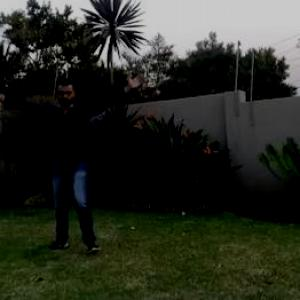takeoff: (1, 73, 149, 250)
